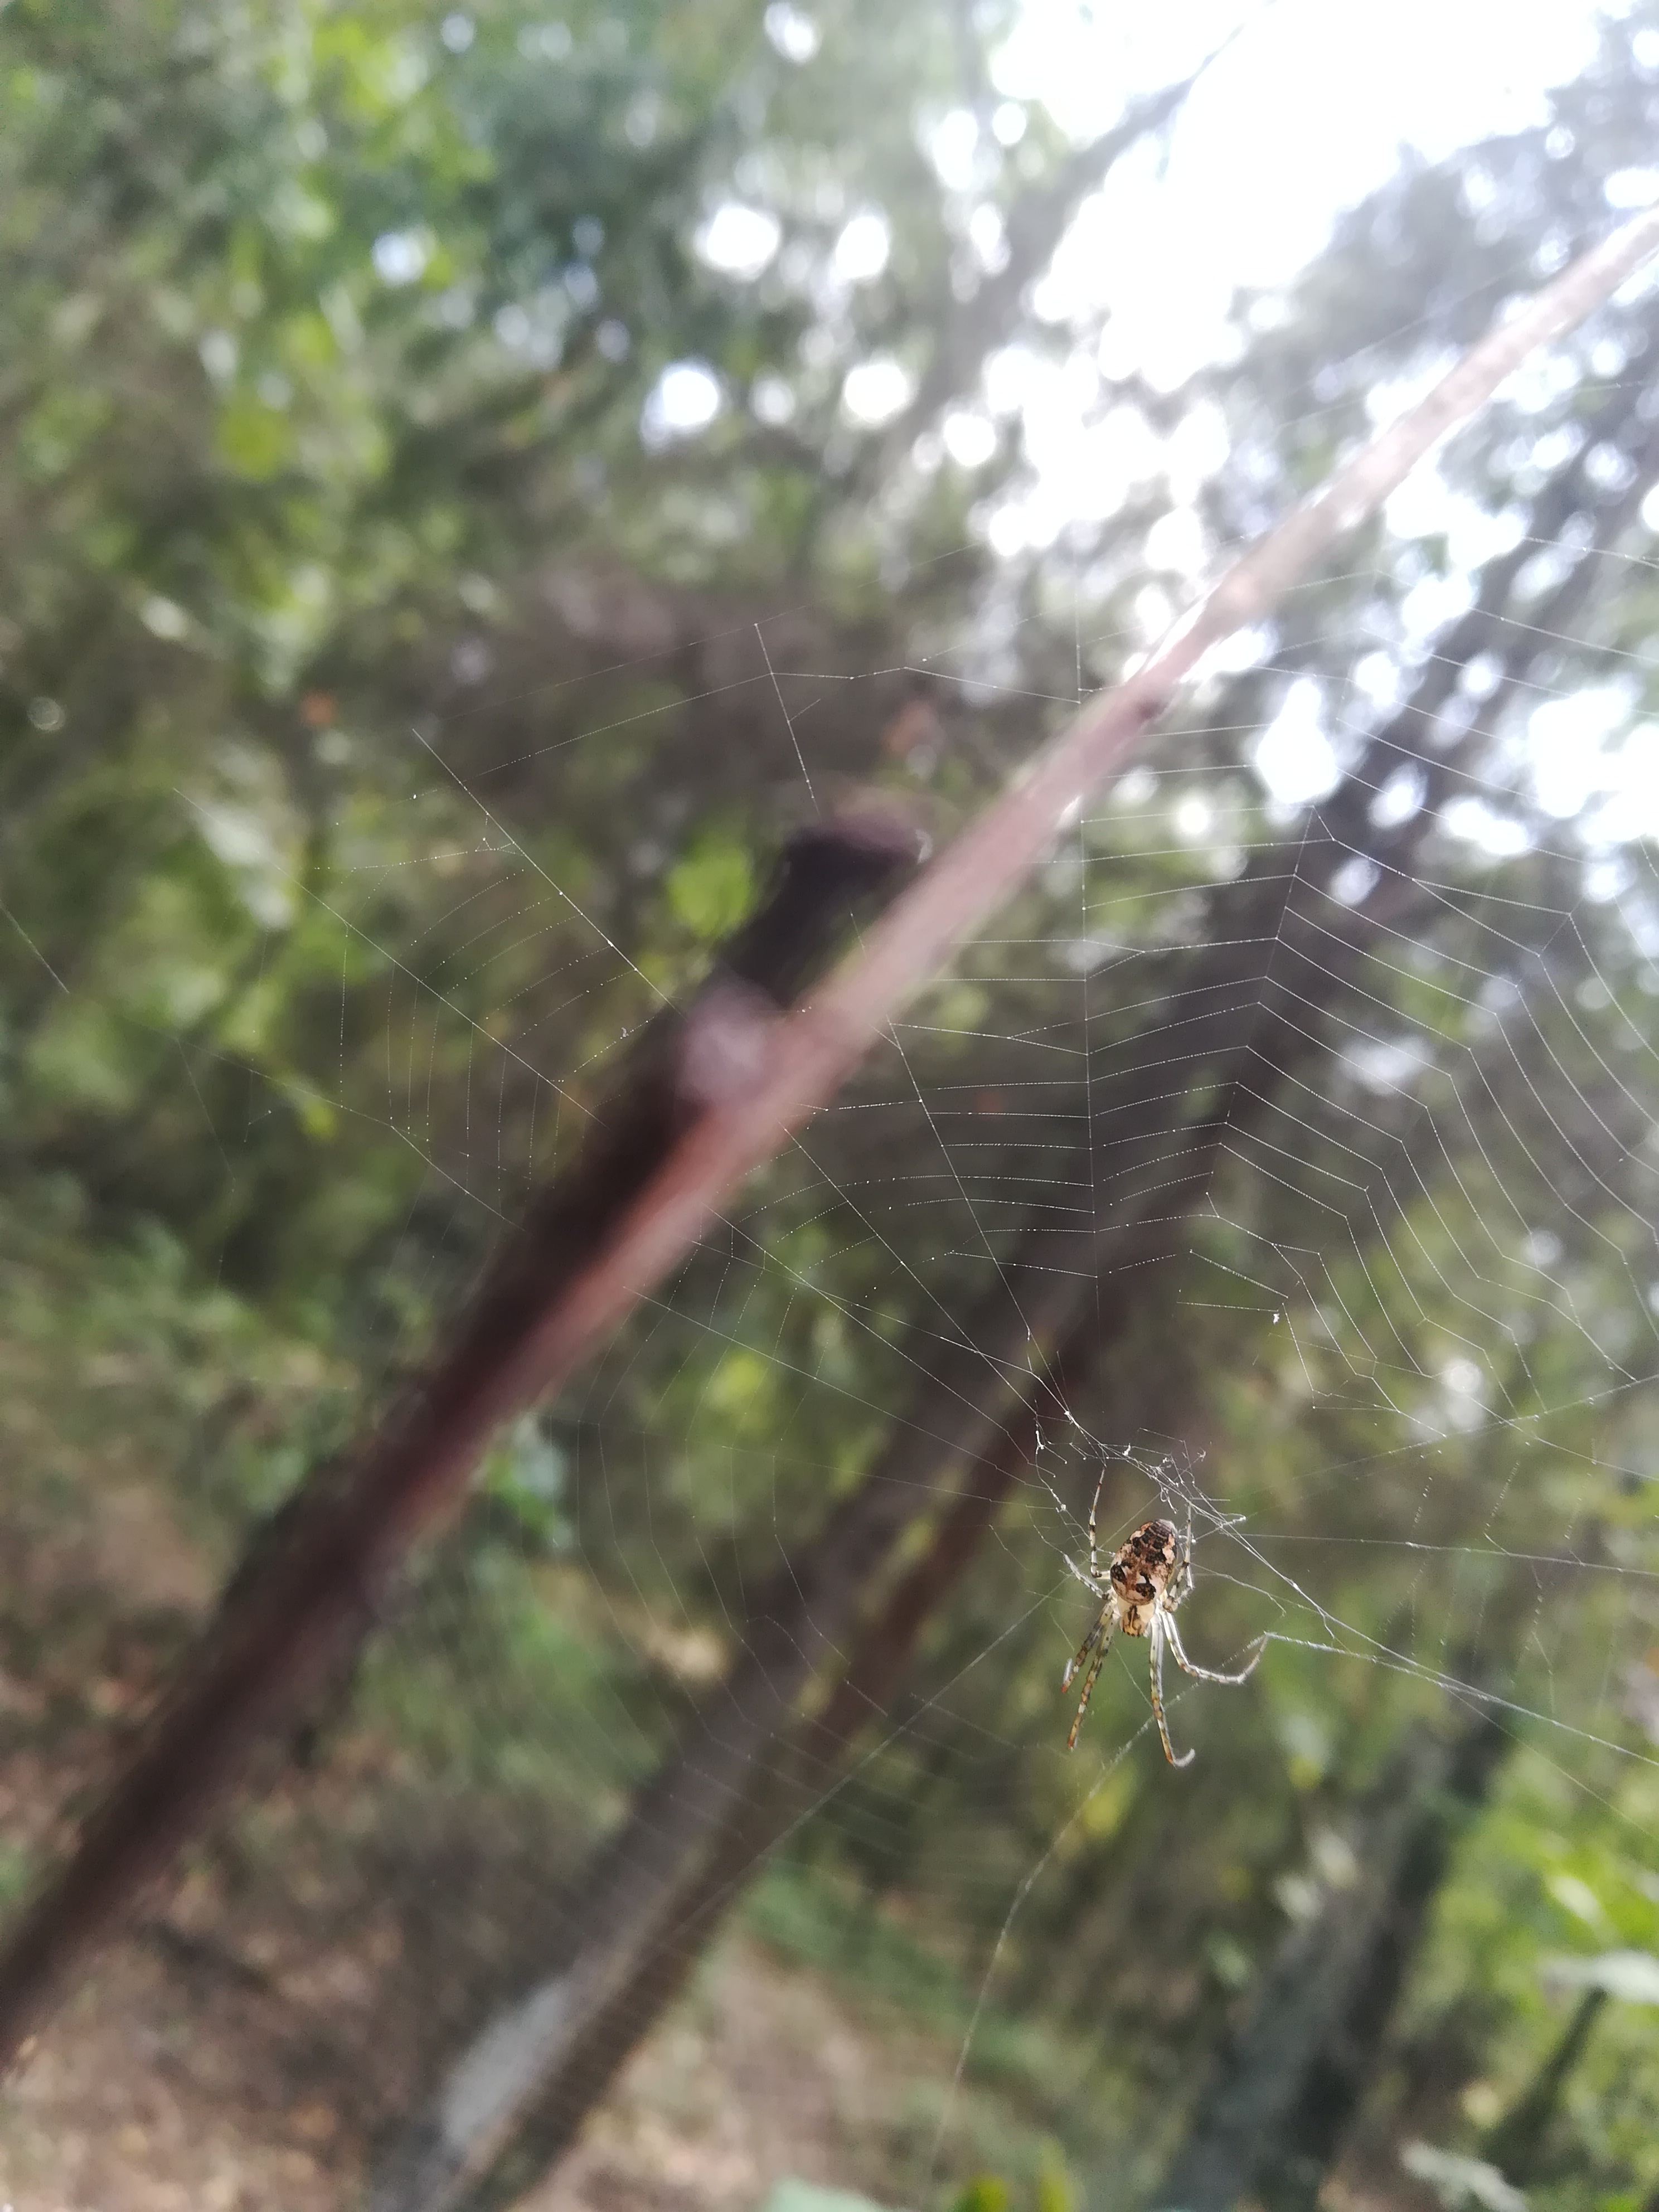spider: (972, 1440, 1303, 1820)
